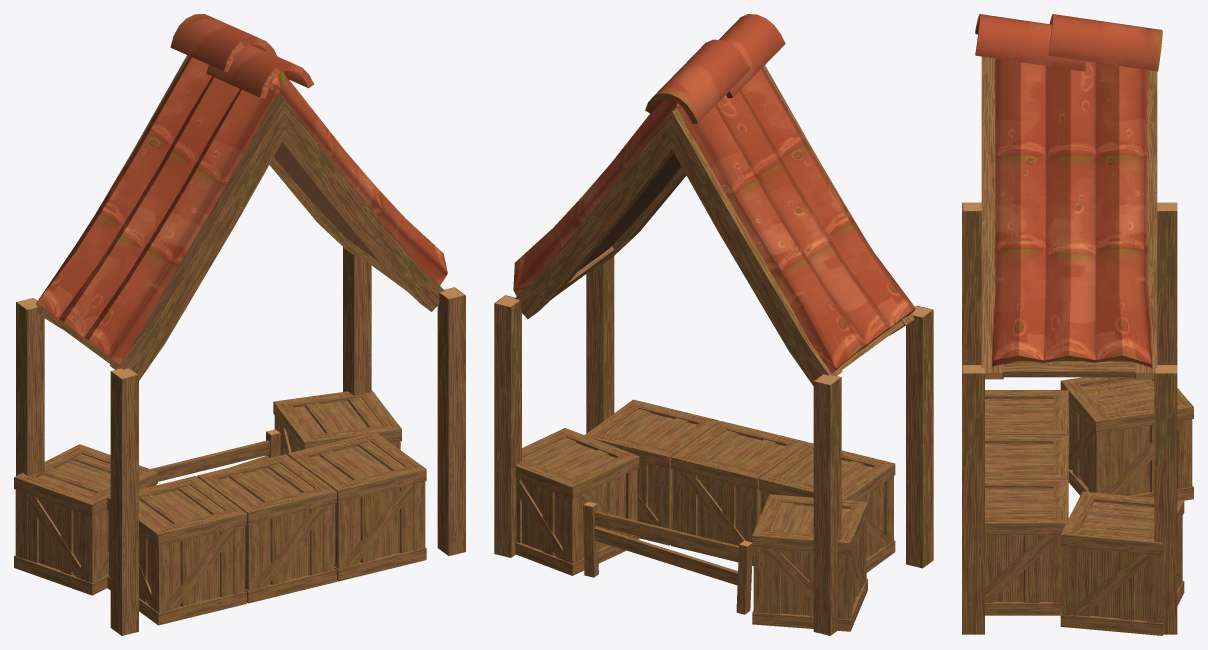
The model's file is Stall.gltf.
3 views of the same model, side by side, from view 1: azimuth 30°, elevation 25°; view 2: azimuth 150°, elevation 25°; view 3: azimuth 270°, elevation 25° (orthographic). The views are drawn at different scales.
Parts seen in each view (by area): view 1: Stall; view 2: Stall; view 3: Stall.
Boxes of the visible parts, x1,y1,x2,y2 form: Stall: (14, 14, 465, 635); Stall: (494, 14, 933, 635); Stall: (962, 14, 1193, 635).
Bounding box in the file's own units: 4.42 × 6.15 × 2.41.
2 materials, 2 textured.
